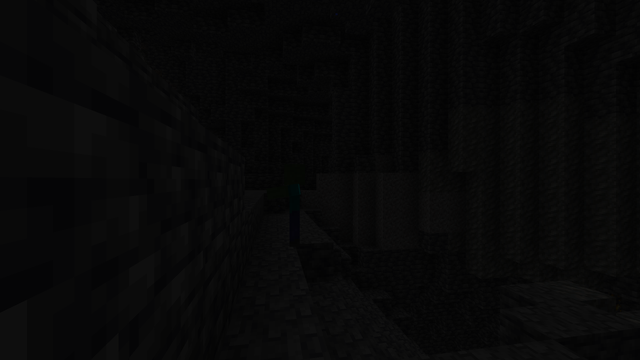zombies: (282, 166, 307, 247)
